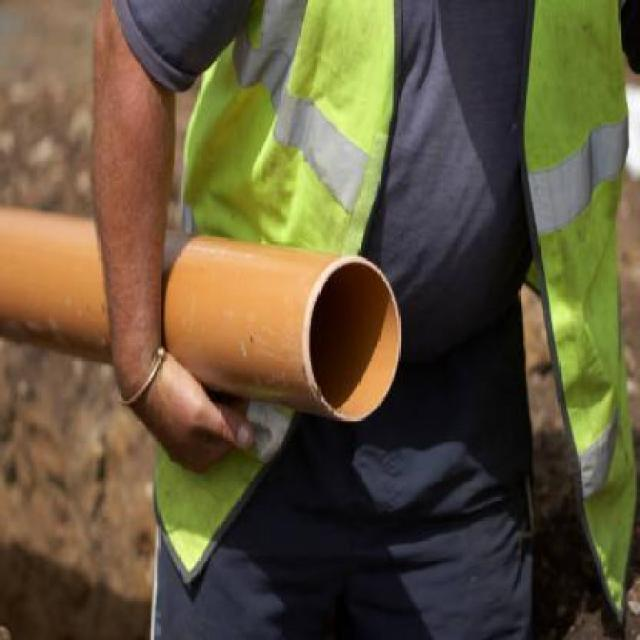pipe: (305, 256, 401, 422)
